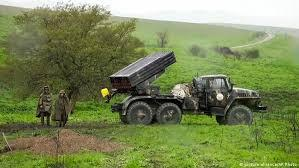MIL_SAM_TEL: (110, 49, 265, 128)
